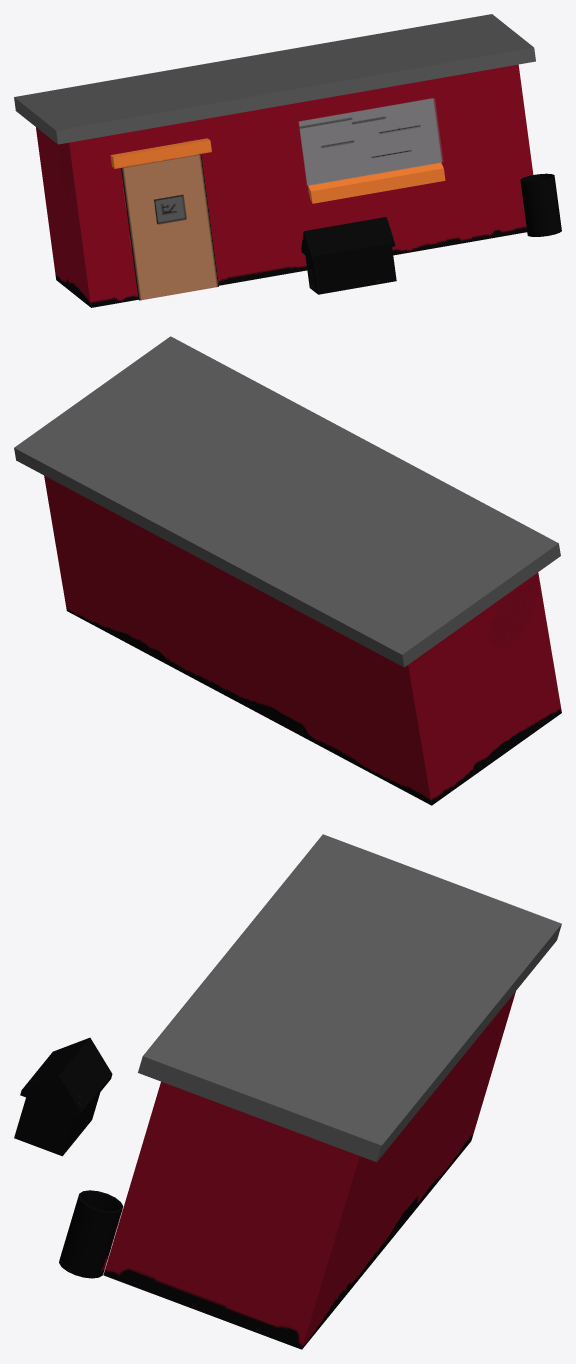
File: краски .fbx
3 views of the same model, one above another, from view 1: azimuth 30°, elevation 25°; view 2: azimuth 150°, elevation 25°; view 3: azimuth 270°, elevation 25° (orthographic). The views are drawn at different scales.
Visible parts, largest first — view 1: root; view 2: root; view 3: root.
Boxes of the visible parts, x1,y1,x2,y2 form: root: [14, 14, 561, 307]; root: [14, 336, 561, 805]; root: [14, 834, 561, 1349].
Size of the model in its own units: 0.4799 by 0.237 by 0.3748.
1 material, 1 textured.
